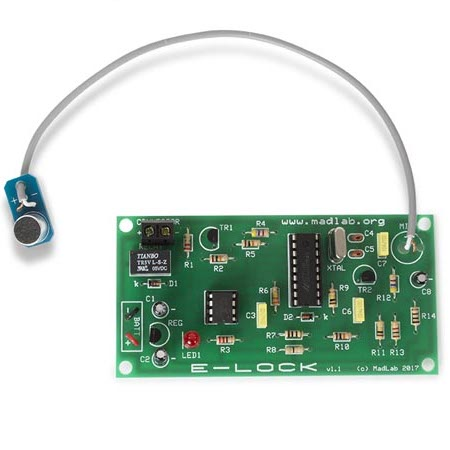Capacitor: (411, 270, 428, 288), (153, 348, 168, 366), (152, 301, 168, 317)
Diode: (301, 313, 314, 321), (149, 281, 161, 287)
LED: (183, 330, 200, 348)
Resistor: (327, 287, 338, 308), (388, 273, 399, 294), (271, 286, 281, 307), (284, 329, 304, 339), (284, 345, 304, 355), (411, 306, 421, 326), (331, 332, 352, 341), (241, 239, 261, 248), (376, 320, 385, 340), (391, 320, 400, 340), (183, 233, 192, 252), (251, 229, 270, 238), (217, 335, 236, 344), (210, 254, 228, 263)
